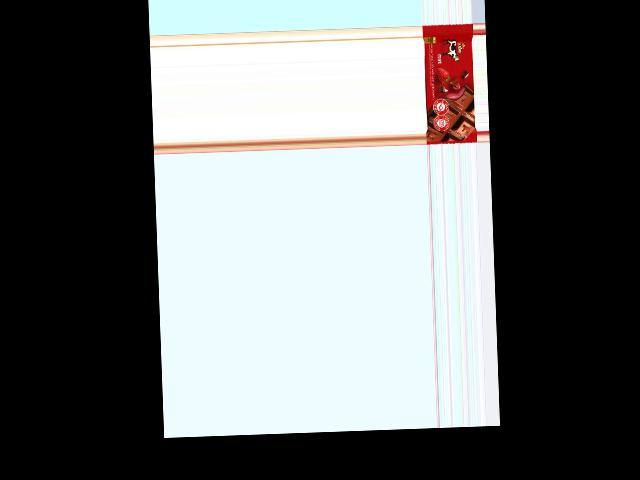chocolate: (422, 22, 476, 144)
